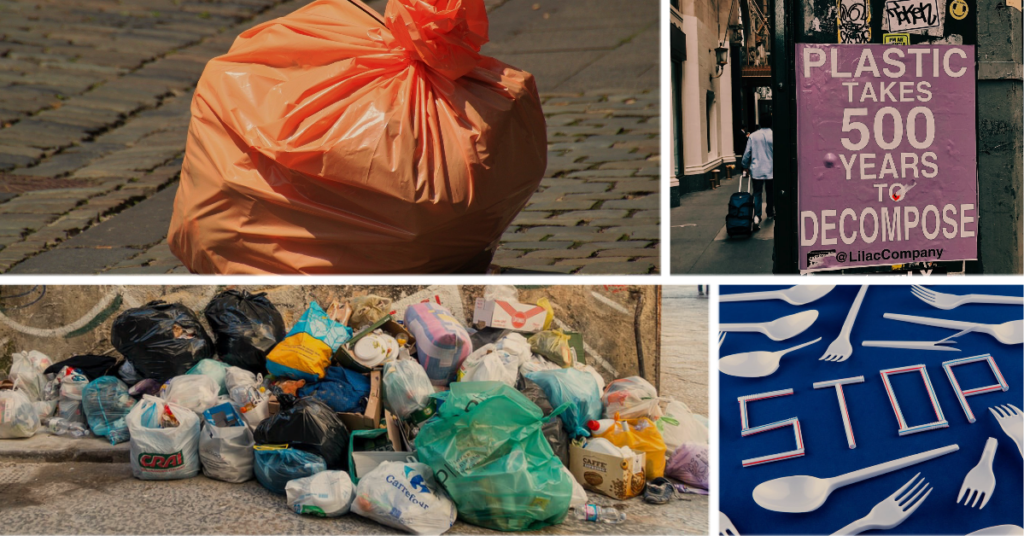plastic_bag: (165, 1, 546, 279)
